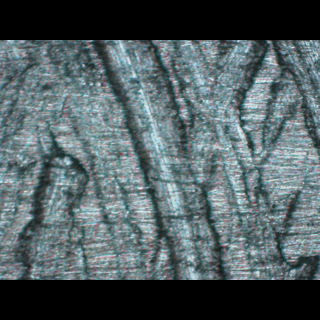d: (90, 41, 320, 280), (0, 127, 107, 263)
